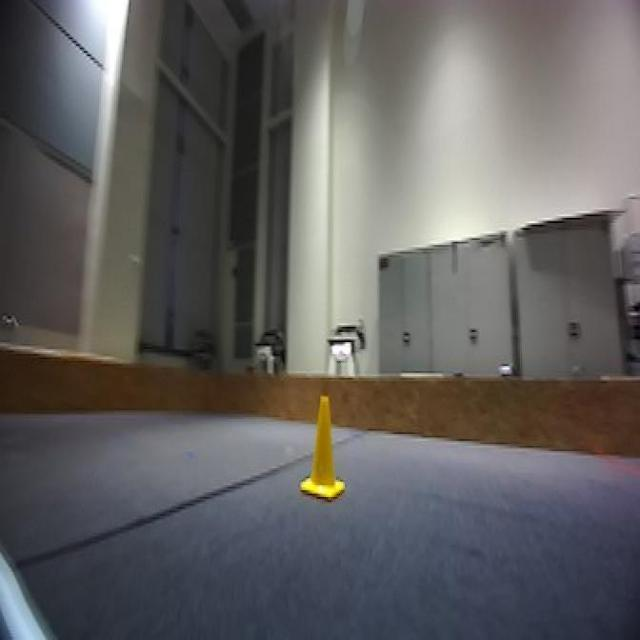frc_cone: (301, 395, 349, 511)
